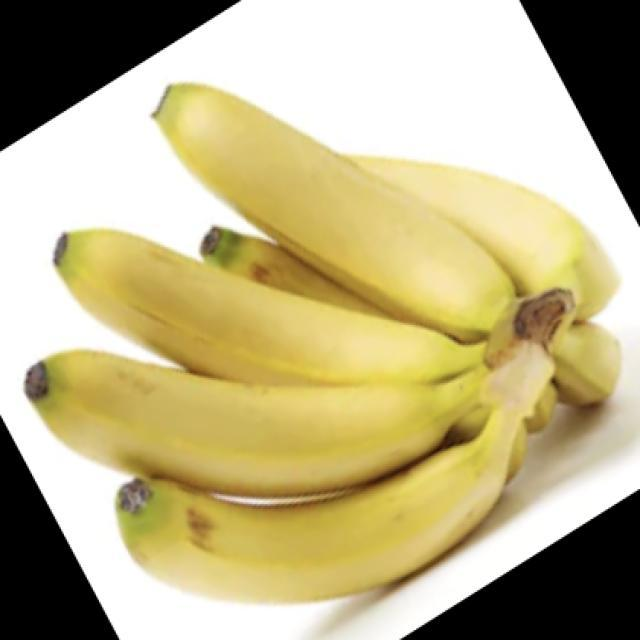Banana: (25, 81, 624, 612)
